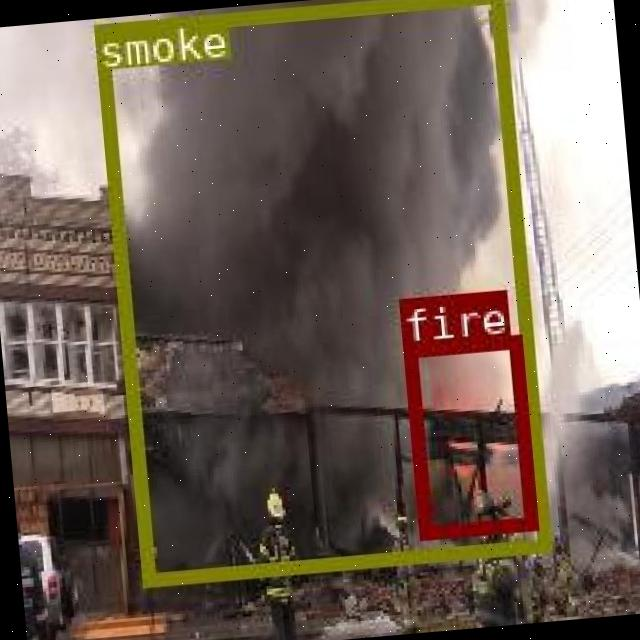fire: (402, 333, 534, 535)
smoke: (92, 0, 548, 584)
